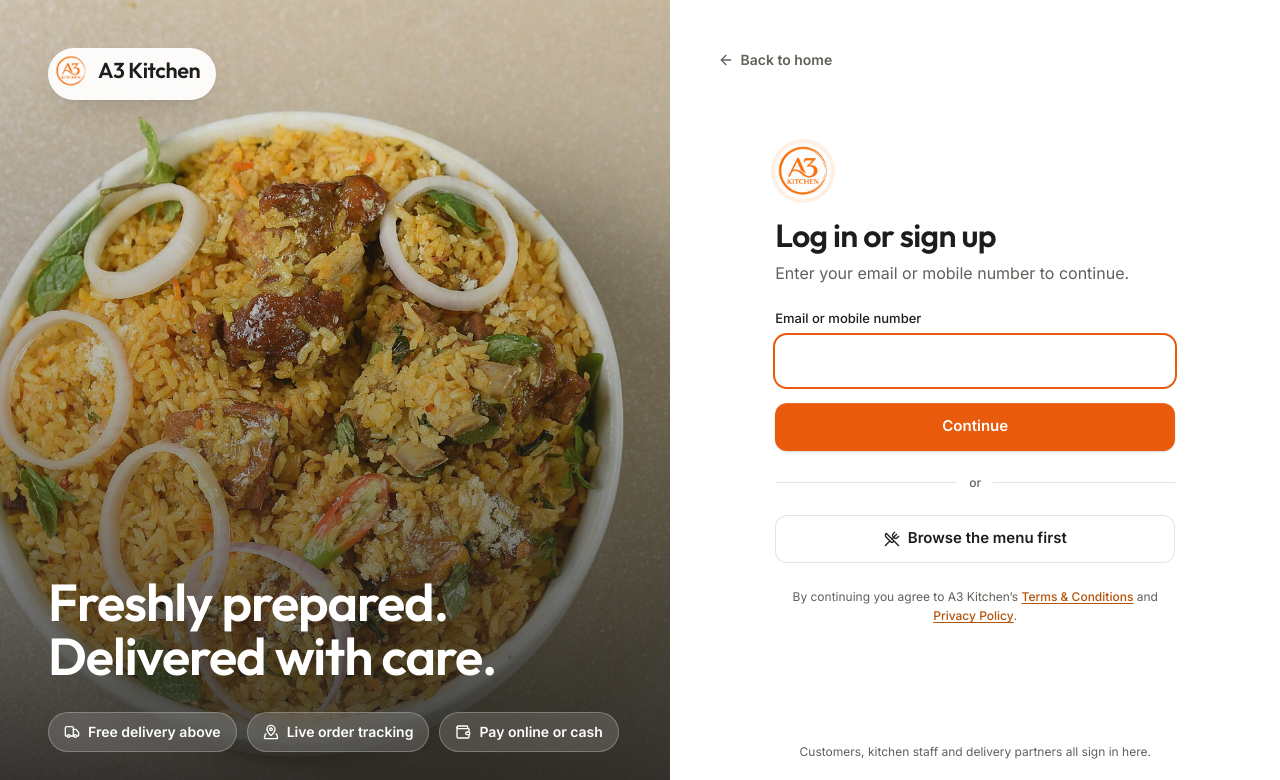
Test: one-field login (web) › unregistered number → register, pre-filled
The width and height of the screenshot is (1280, 780).
In the field labelled "Email or mobile number": (975, 361) [775, 335, 1175, 387], type "9876543210"
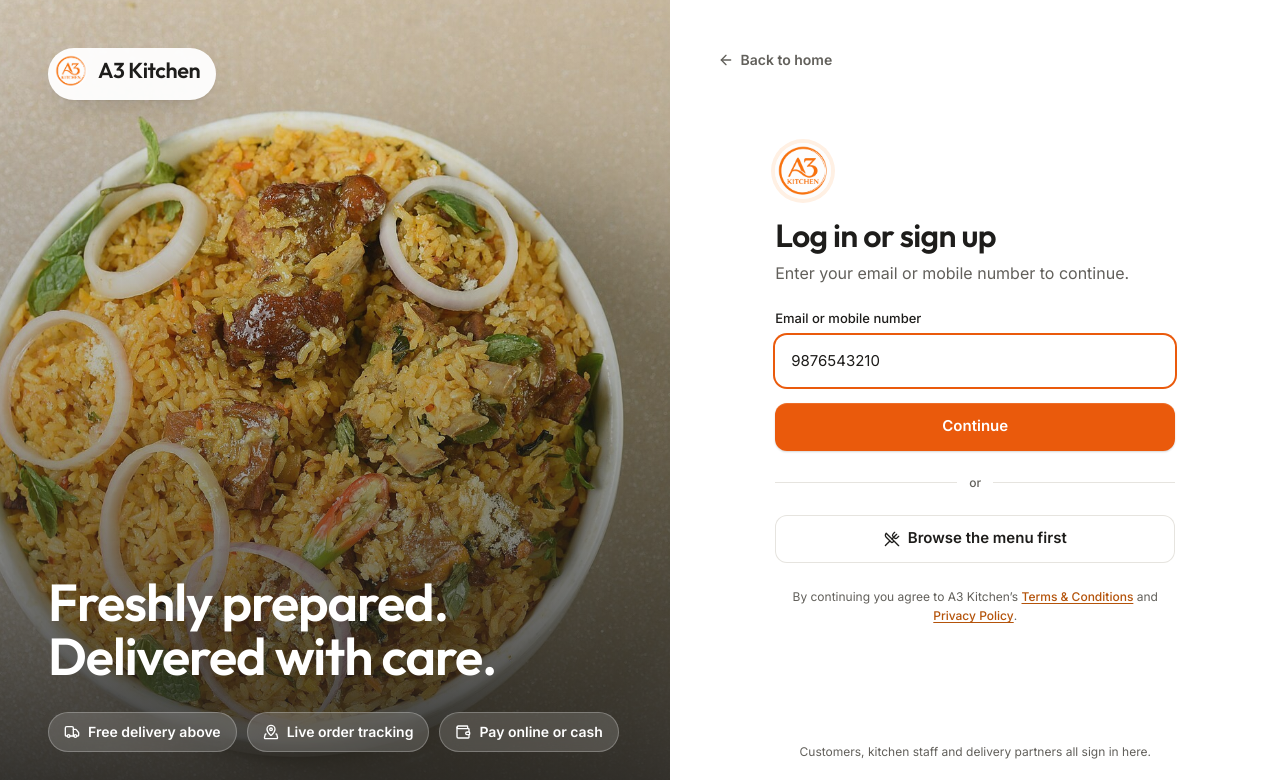
Click the button "Continue": (975, 427) [775, 403, 1175, 451]
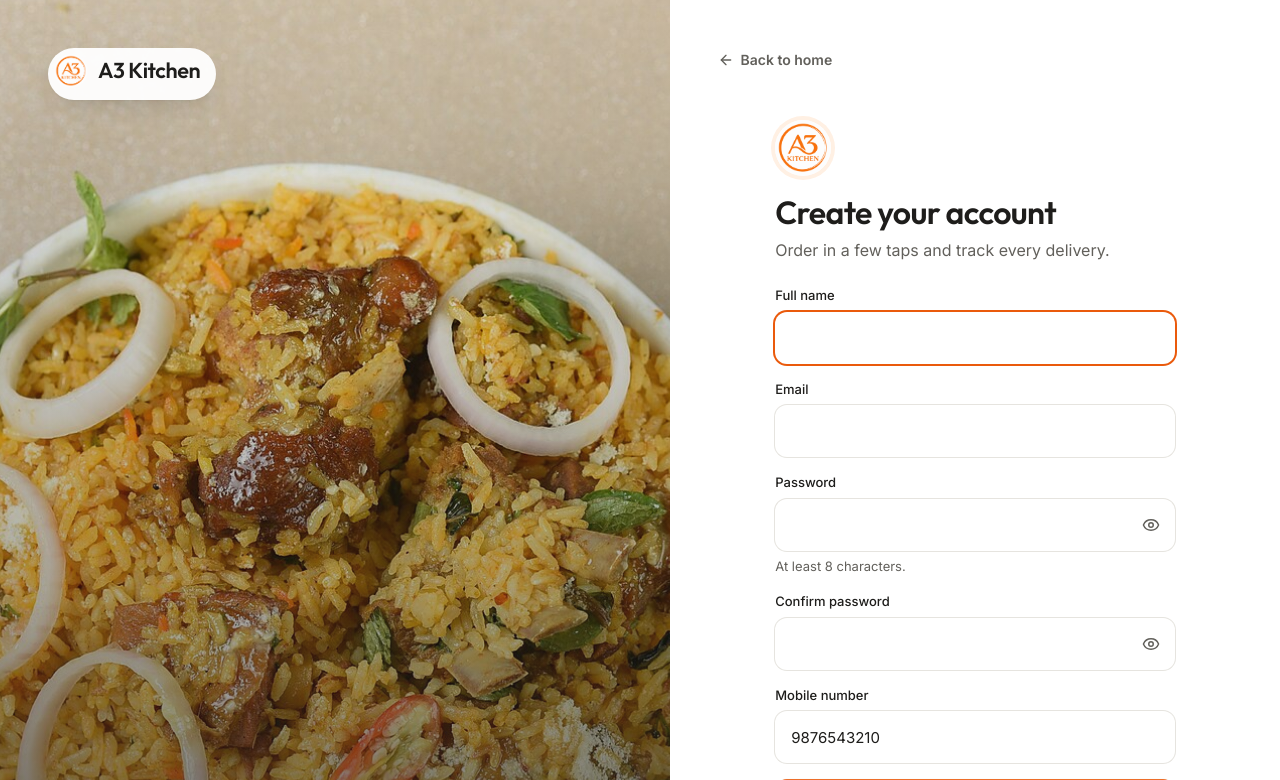
Now the heading "Create your account" is shown, box [775, 192, 1056, 232]
Now the field labelled "Mobile number" holds "9876543210", box [775, 711, 1175, 763]
